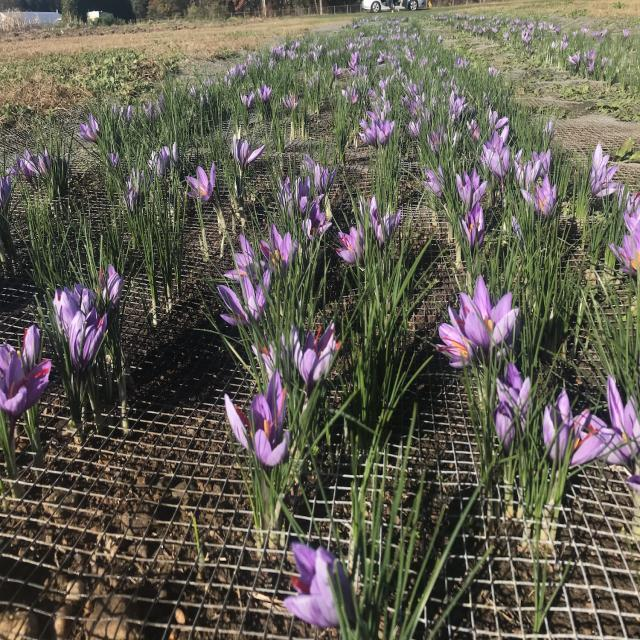Flower: (2, 277, 122, 421), (223, 334, 337, 464), (560, 380, 640, 504), (589, 146, 640, 322), (437, 273, 522, 372), (458, 129, 515, 260), (228, 236, 310, 325), (282, 542, 358, 636), (110, 132, 192, 182), (361, 100, 398, 152), (182, 164, 225, 208), (340, 208, 368, 270)
